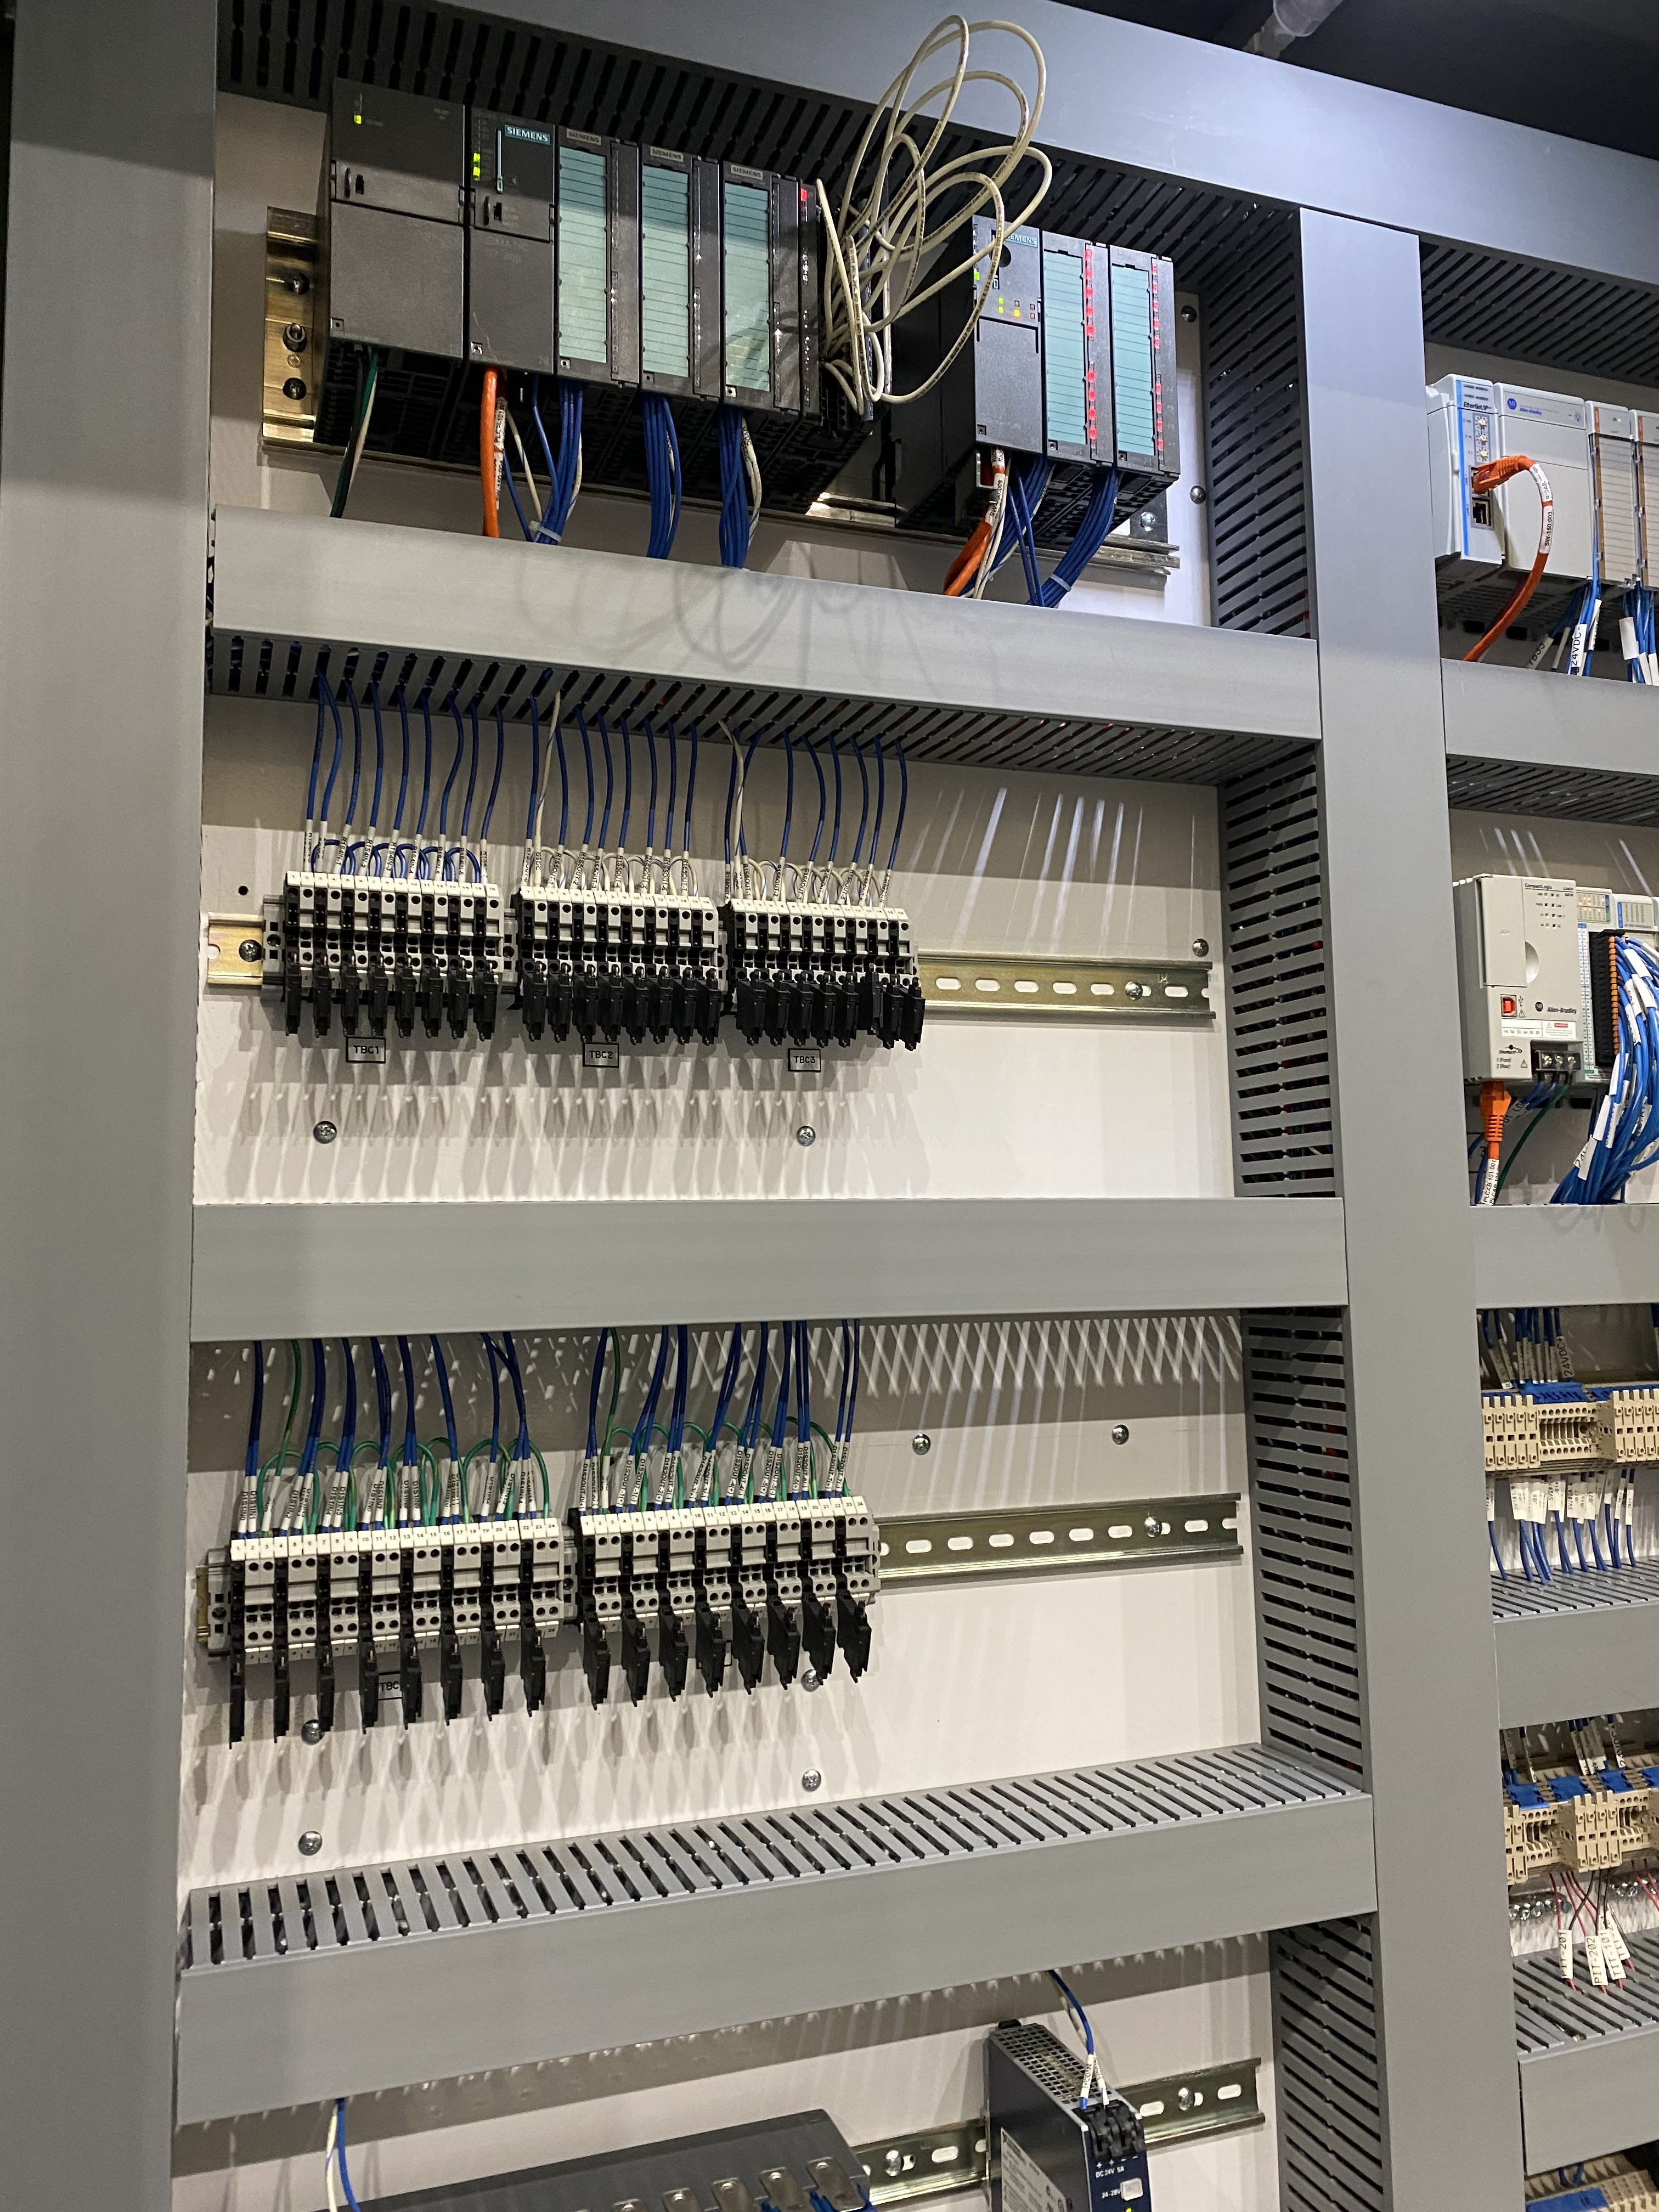AllenBradley: (1471, 869, 1588, 1087)
Siemens: (465, 106, 558, 380)
